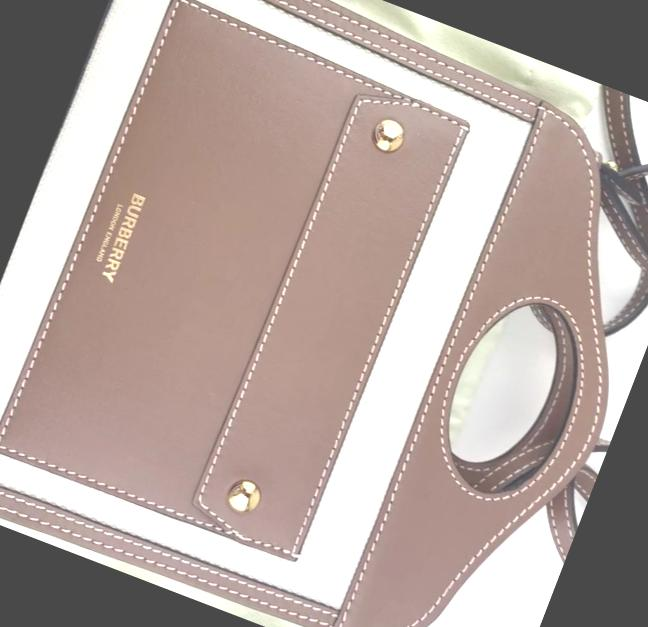BURBERRY: (100, 192, 146, 283)
